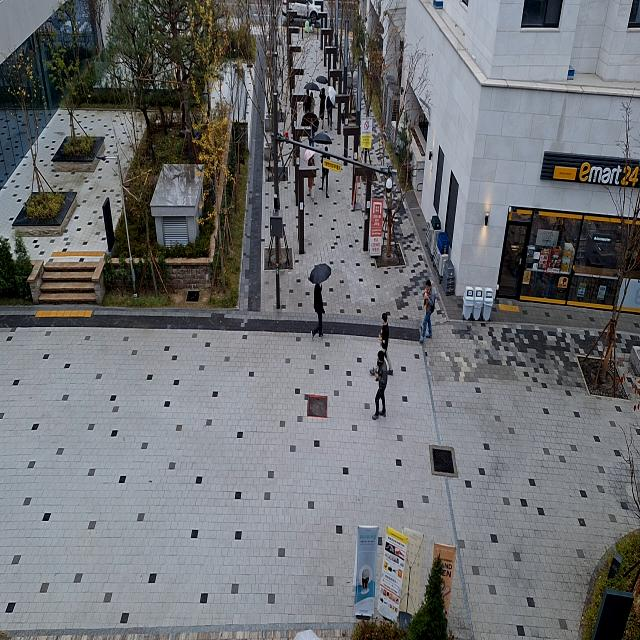Car: (272, 0, 328, 24)
